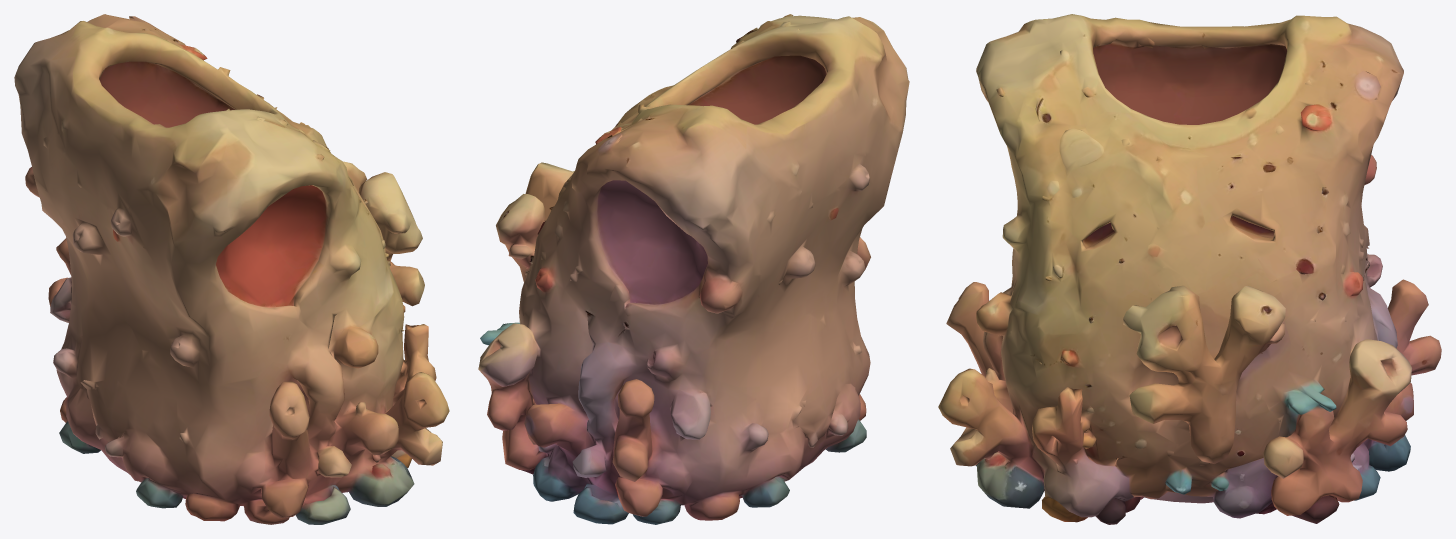
Rendered from body.glb.
The picture shows the model from 3 angles, left to right: view 1: azimuth 30°, elevation 25°; view 2: azimuth 150°, elevation 25°; view 3: azimuth 270°, elevation 25°; orthographic projection. The views are drawn at different scales.
Parts seen in each view (by area): view 1: tripo_node_d71c1c6e-5ec1-4bb1-850d-df3f8bd7c9d3; view 2: tripo_node_d71c1c6e-5ec1-4bb1-850d-df3f8bd7c9d3; view 3: tripo_node_d71c1c6e-5ec1-4bb1-850d-df3f8bd7c9d3.
Boxes of the visible parts, x1=… form: tripo_node_d71c1c6e-5ec1-4bb1-850d-df3f8bd7c9d3: x1=14, y1=14, x2=449, y2=524; tripo_node_d71c1c6e-5ec1-4bb1-850d-df3f8bd7c9d3: x1=478, y1=14, x2=909, y2=524; tripo_node_d71c1c6e-5ec1-4bb1-850d-df3f8bd7c9d3: x1=938, y1=14, x2=1441, y2=524.
Size of the model in its own units: 0.7565 by 0.9093 by 1.
Materials: 1 (1 with a texture image).
